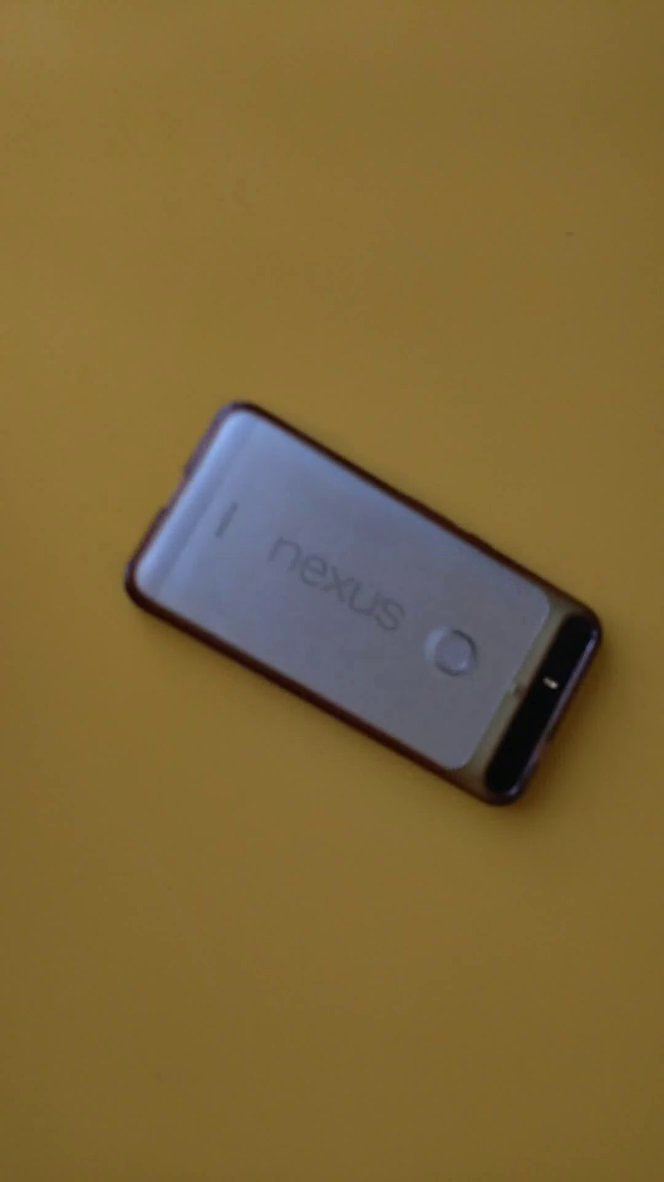phone: (107, 383, 618, 824)
